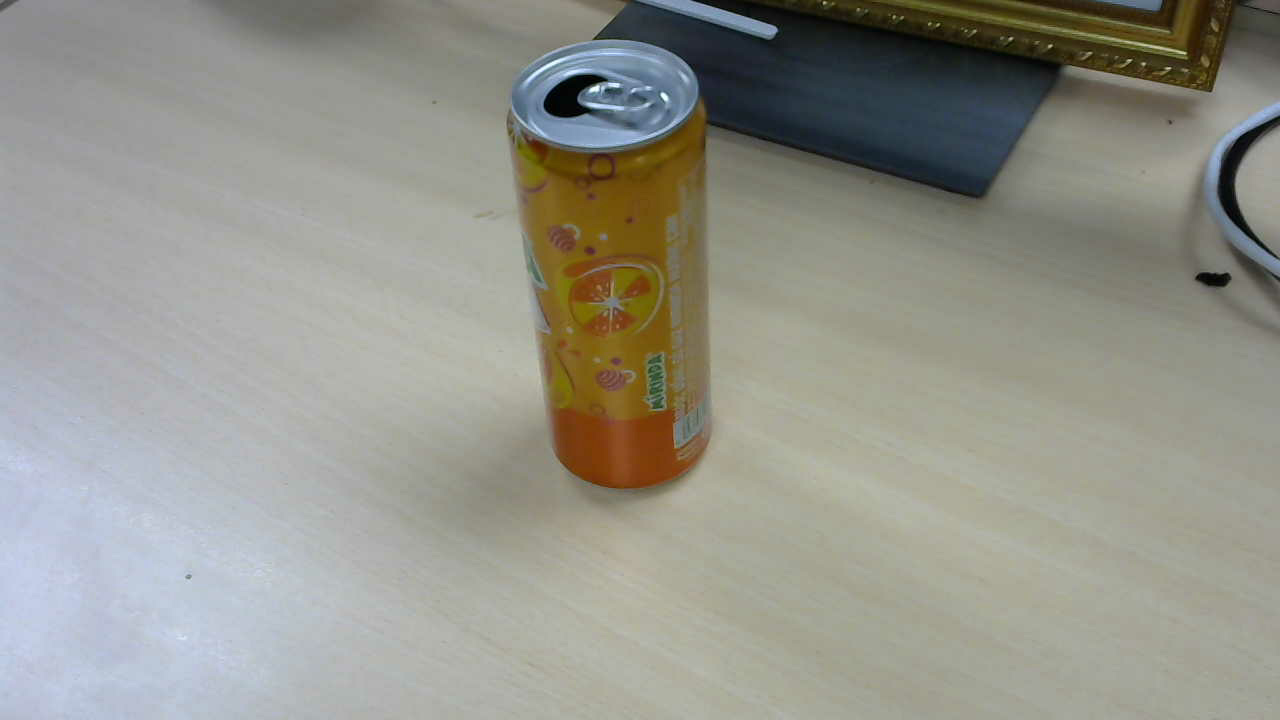Mirinda: (514, 45, 722, 501)
